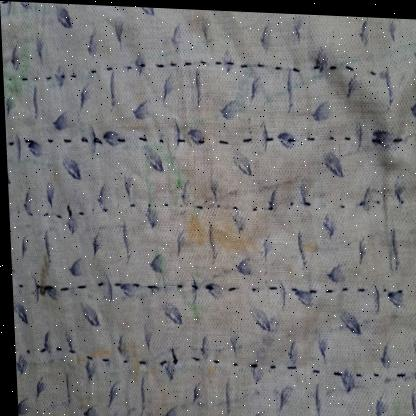spot: (179, 209, 250, 265), (104, 334, 145, 375), (6, 47, 34, 107), (25, 244, 52, 305), (59, 343, 114, 368), (136, 169, 156, 229), (158, 145, 183, 188)
